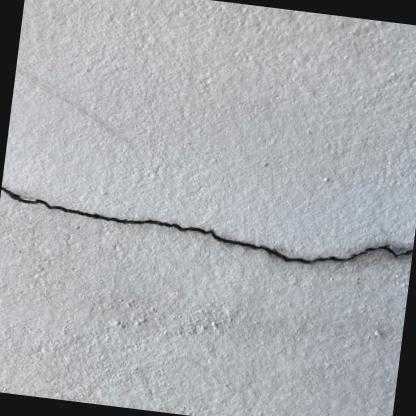crack: (1, 185, 413, 263)
